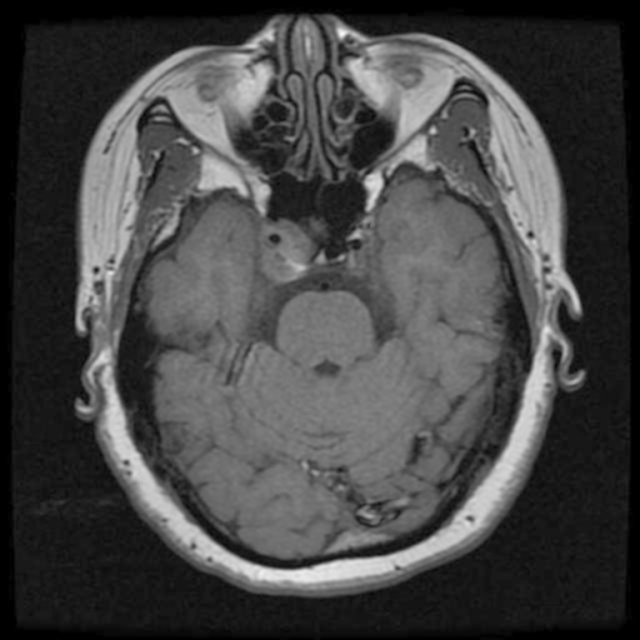no tumor: (245, 210, 330, 279)
